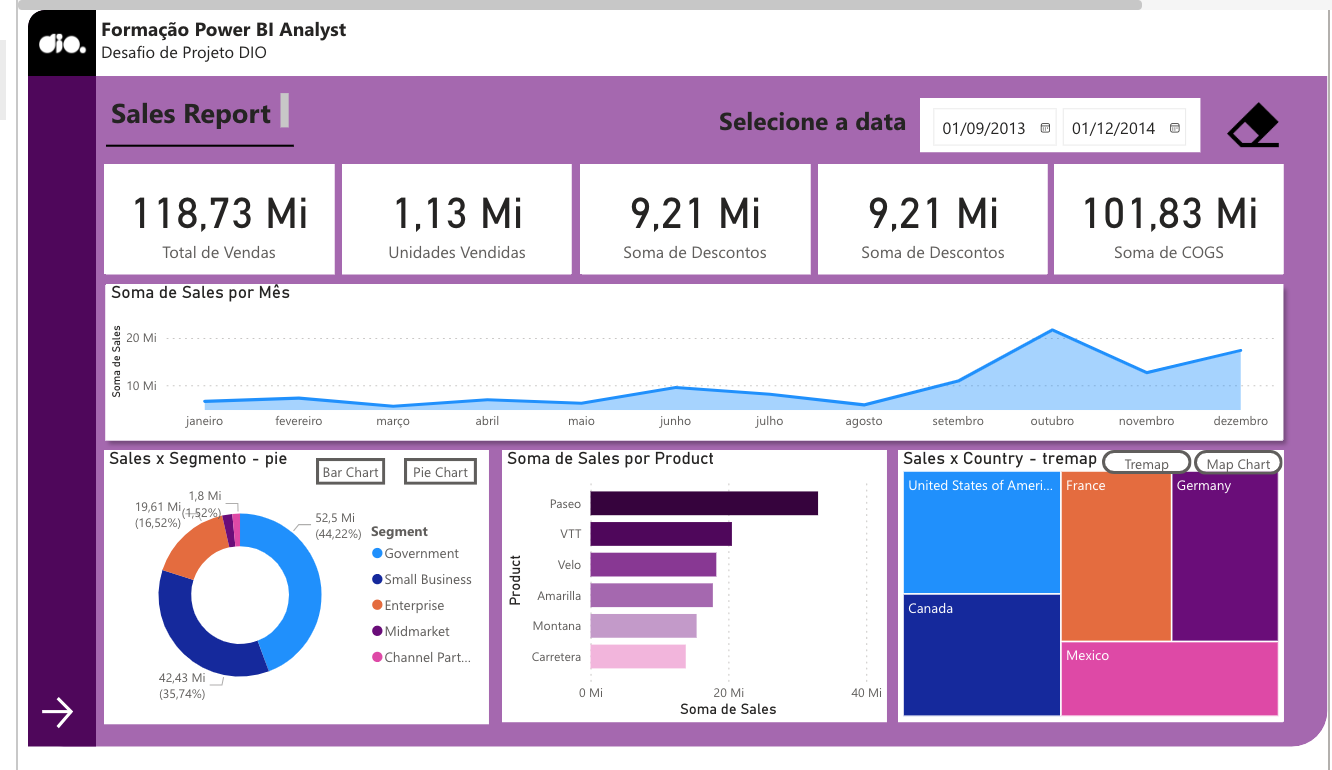

This screenshot's page, from the dashboard's own definition file:
{"tool":"powerbi","page":{"name":"Página 1","canvas":[1280,720],"ordinal":0},"visuals":[{"type":"shape","box":[10.2,0,1269.8,719.8],"z":0},{"type":"slicer","fields":{"Values":["financials.Date"]},"box":[882.8,86.4,274.2,53.1],"z":0,"group":"g3"},{"type":"shape","box":[85.9,112.5,183.7,38.5],"z":0,"group":"g6"},{"type":"shape","box":[85.7,150.3,223.7,108],"z":0,"group":"g1"},{"type":"card","fields":{"Values":["Sum(financials. Sales)"]},"box":[84.8,150.4,224.7,107.5],"z":0,"group":"g2"},{"type":"shape","box":[9.8,0,66.7,719.8],"z":1000},{"type":"textbox","box":[85.9,76,183.7,44.4],"z":1000,"group":"g6"},{"type":"textbox","box":[681,86.9,201,52.4],"z":1000,"group":"g3"},{"type":"shape","box":[1012.9,150.3,223.7,108],"z":1000,"group":"g1"},{"type":"card","fields":{"Values":["Sum(financials.Units Sold)"]},"box":[317.4,150.4,224.7,107.5],"z":1000,"group":"g2"},{"type":"donutChart","title":"Sales x Segmento - pie","fields":{"Y":["Sum(financials. Sales)"],"Category":["financials.Segment"]},"box":[84.5,429.3,375.8,268],"z":1187,"group":"g5"},{"type":"actionButton","title":"Botão - Bar","box":[291.5,437.2,67.7,26.2],"z":1250,"group":"g5"},{"type":"actionButton","title":"Botão - Pie","box":[378.1,436.3,71.3,26.2],"z":1500,"group":"g5"},{"type":"shape","box":[9.6,0,67.3,64.4],"z":2000},{"type":"actionButton","box":[1176,90.8,60.4,45.2],"z":2000,"group":"g3"},{"type":"shape","box":[317.2,150.3,223.7,108],"z":2000,"group":"g1"},{"type":"card","fields":{"Values":["Sum(financials.Discounts)"]},"box":[549.9,150.4,224.7,107.5],"z":2000,"group":"g2"},{"type":"map","title":"Sales x Country - maps","fields":{"Category":["financials.Country"],"Size":["Sum(financials. Sales)"]},"box":[860.1,430.4,376.9,265.3],"z":2000,"group":"g4"},{"type":"image","title":"logo_dio","box":[15.4,9.6,55.8,46.2],"z":3000},{"type":"shape","box":[549.8,150.3,223.7,108],"z":3000,"group":"g1"},{"type":"card","fields":{"Values":["Sum(financials.Discounts)"]},"box":[781.6,150.4,224.7,107.5],"z":3000,"group":"g2"},{"type":"treemap","title":"Sales x Country - tremap","fields":{"Group":["financials.Country"],"Values":["Sum(financials. Sales)"]},"box":[860.5,430.2,376.8,265.1],"z":3000,"group":"g4"},{"type":"actionButton","title":"Botão - Map","box":[1149.9,430.7,86.7,24.2],"z":3250,"group":"g4"},{"type":"actionButton","title":"Botão - Tremap","box":[1060.3,430.9,87.5,23.5],"z":3500,"group":"g4"},{"type":"shape","box":[76,0,1204,64.4],"z":4000},{"type":"shape","box":[781.4,150.3,223.7,108],"z":4000,"group":"g1"},{"type":"card","fields":{"Values":["Sum(financials.COGS)"]},"box":[1012.5,150.4,224.7,107.5],"z":4000,"group":"g2"},{"type":"textbox","box":[76,0,312.5,64.4],"z":5000},{"type":"shape","box":[77,259.8,1168.4,169.9],"z":6000},{"type":"shape","box":[860.4,430.7,376.2,266],"z":7000},{"type":"shape","box":[473,430.7,376.2,266],"z":8000},{"type":"group","id":"g1","title":"Botões","box":[85.7,150.3,1150.9,108],"z":9000},{"type":"group","id":"g2","title":"Cartões","box":[84.8,150.4,1152.3,107.5],"z":10000},{"type":"areaChart","fields":{"Category":["financials.Date.Variation.Hierarquia de datas.Mês"],"Y":["Sum(financials. Sales)"]},"box":[85.7,268.4,1150.6,152.1],"z":11000},{"type":"clusteredBarChart","title":"Sales x Segmento","fields":{"Y":["Sum(financials. Sales)"],"Category":["financials.Segment"]},"box":[84.8,429.3,376,267.5],"z":12000},{"type":"image","title":"eraser","box":[1175.8,84.5,60.6,55.5],"z":13000},{"type":"clusteredBarChart","fields":{"Y":["Sum(financials. Sales)"],"Category":["financials.Product"]},"box":[473.5,430.6,375.9,265.6],"z":14000},{"type":"group","id":"g3","title":"Filtro por data","box":[681,86.4,555.3,53.1],"z":15000},{"type":"actionButton","box":[18.2,665.7,50.4,40.3],"z":19000},{"type":"group","id":"g4","title":"Sales x país","box":[860.1,430.2,377.2,265.6],"z":22500},{"type":"group","id":"g5","title":"Sales x Segmento","box":[84.5,429.3,376.3,268],"z":22750},{"type":"group","id":"g6","title":"Title report","box":[85.9,76,183.7,75.1],"z":23000}]}

Visuals, with their boxes in screenshot pixels (x1, y1, x2, y2):
shape: [24, 7, 1327, 746]
slicer - financials.Date: [920, 96, 1201, 150]
shape: [102, 122, 291, 162]
shape: [102, 161, 331, 272]
card - Sum(financials. Sales): [101, 161, 332, 272]
shape: [24, 7, 92, 746]
textbox: [102, 85, 291, 130]
textbox: [713, 96, 919, 150]
shape: [1053, 161, 1283, 272]
card - Sum(financials.Units Sold): [340, 161, 570, 272]
"Sales x Segmento - pie" donutChart: [101, 448, 486, 723]
"Botão - Bar" actionButton: [313, 456, 383, 482]
"Botão - Pie" actionButton: [402, 455, 475, 482]
shape: [24, 7, 93, 73]
actionButton: [1221, 100, 1283, 147]
shape: [339, 161, 569, 272]
card - Sum(financials.Discounts): [578, 161, 809, 272]
"Sales x Country - maps" map: [897, 449, 1283, 721]
"logo_dio" image: [30, 17, 87, 64]
shape: [578, 161, 808, 272]
card - Sum(financials.Discounts): [816, 161, 1047, 272]
"Sales x Country - tremap" treemap: [897, 448, 1284, 720]
"Botão - Map" actionButton: [1194, 449, 1283, 474]
"Botão - Tremap" actionButton: [1102, 449, 1192, 473]
shape: [92, 7, 1327, 73]
shape: [816, 161, 1045, 272]
card - Sum(financials.COGS): [1053, 161, 1284, 272]
textbox: [92, 7, 413, 73]
shape: [93, 274, 1292, 448]
shape: [897, 449, 1283, 722]
shape: [499, 449, 885, 722]
"Botões" group: [102, 161, 1283, 272]
"Cartões" group: [101, 161, 1283, 272]
areaChart - financials.Date.Variation.Hierarquia de datas.Mês x Sum(financials. Sales): [102, 282, 1283, 438]
"Sales x Segmento" clusteredBarChart: [101, 448, 487, 722]
"eraser" image: [1221, 94, 1283, 151]
clusteredBarChart - Sum(financials. Sales) x financials.Product: [500, 449, 886, 721]
"Filtro por data" group: [713, 96, 1283, 150]
actionButton: [33, 690, 84, 731]
"Sales x país" group: [897, 448, 1284, 721]
"Sales x Segmento" group: [101, 448, 487, 723]
"Title report" group: [102, 85, 291, 162]
